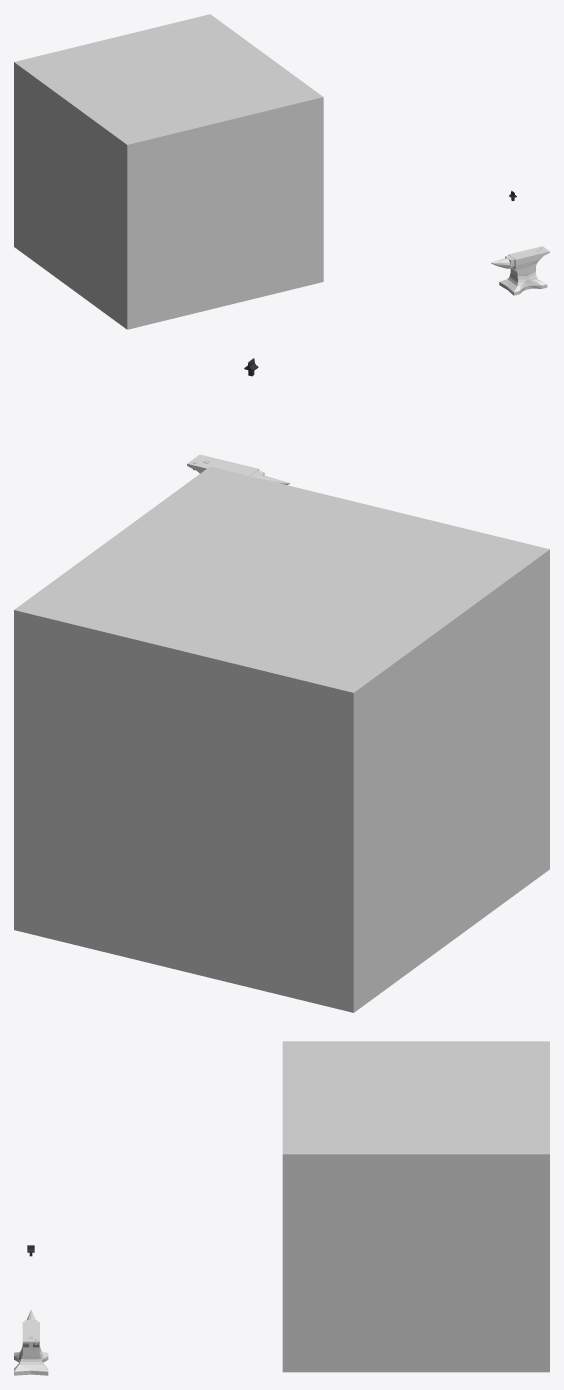
The model's file is anvilcutter.dae.
3 renders of one model, top to bottom at view 1: azimuth 30°, elevation 25°; view 2: azimuth 150°, elevation 25°; view 3: azimuth 270°, elevation 25°, orthographic. The views are drawn at different scales.
Visible parts, largest first — view 1: Cube_004, Cube_002; view 2: Cube_004, Cube_002; view 3: Cube_004, Cube_002.
Part boxes in pixels (x1,y1,x2,y2): Cube_004: (14, 14, 323, 329); Cube_002: (491, 246, 549, 295); Cube_004: (14, 466, 549, 1012); Cube_002: (187, 454, 289, 484); Cube_004: (282, 1041, 549, 1372); Cube_002: (14, 1310, 48, 1375).
Size of the model in its own units: 3.18 by 4.01 by 1.8.
Materials: 1 (1 with a texture image).
